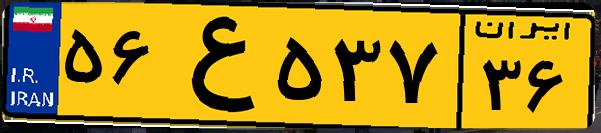3: (330, 28, 385, 110), (475, 38, 525, 113)
5: (270, 28, 330, 110), (57, 26, 110, 100)
6: (525, 38, 570, 115), (110, 28, 158, 98)
7: (385, 28, 445, 110)
ع: (158, 12, 270, 120)
